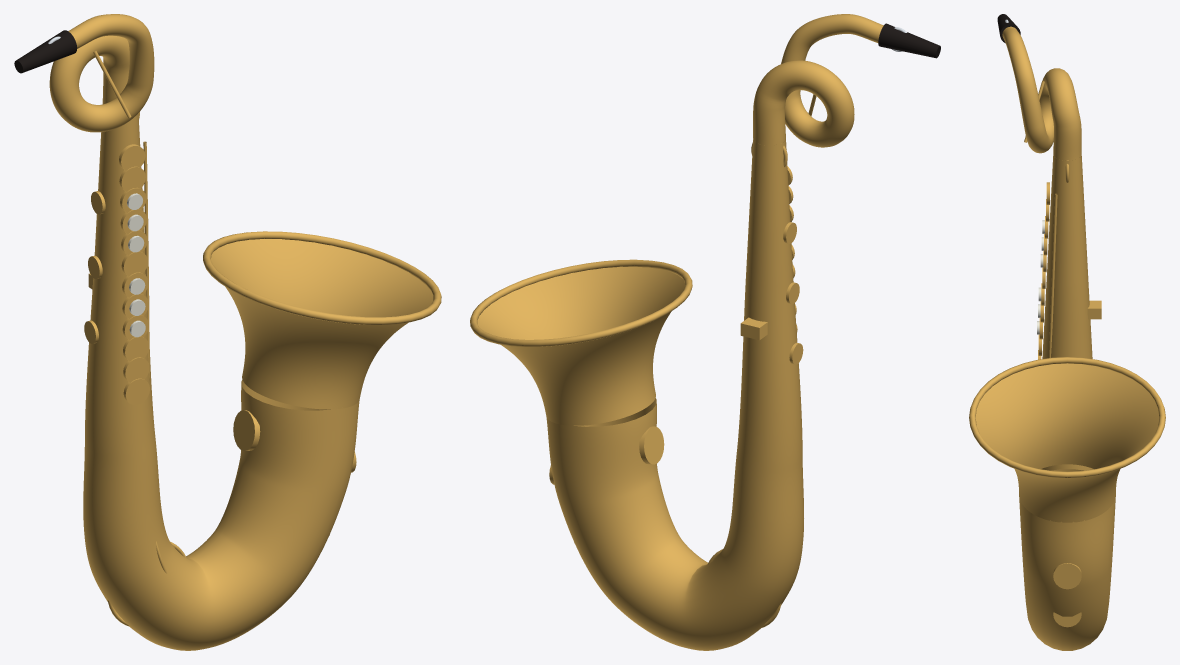
The model's file is sax-baryton.glb.
3 renders of one model, left to right at view 1: azimuth 30°, elevation 25°; view 2: azimuth 150°, elevation 25°; view 3: azimuth 270°, elevation 25°, orthographic. The views are drawn at different scales.
Size of the model in its own units: 0.9235 by 1.35 by 0.4347.
